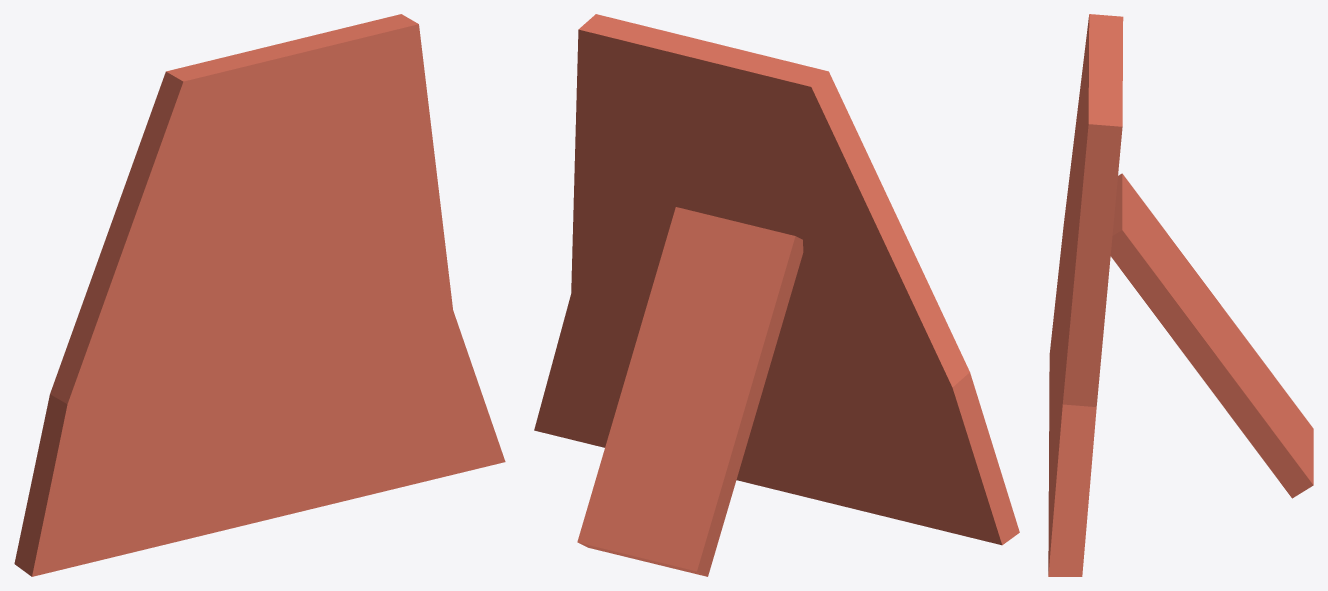
File: baddie2.fbx
The picture shows the model from 3 angles, left to right: view 1: azimuth 30°, elevation 25°; view 2: azimuth 150°, elevation 25°; view 3: azimuth 270°, elevation 25°; orthographic projection. The views are drawn at different scales.
Parts seen in each view (by area): view 1: Cube.002; view 2: Cube.002; view 3: Cube.002.
Boxes of the visible parts, x1,y1,x2,y2 form: Cube.002: (14,14,505,576); Cube.002: (534,14,1019,576); Cube.002: (1048,14,1313,576).
Bounding box in the file's own units: 308 × 273 × 156.
